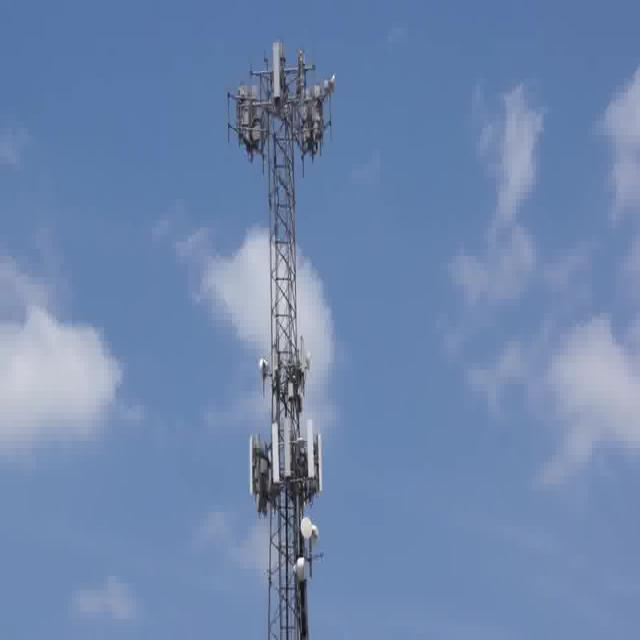GSM Antenna: (265, 420, 281, 488), (281, 409, 296, 479), (304, 419, 319, 486), (270, 39, 284, 104), (244, 431, 257, 497)
Microwave Antenna: (300, 513, 314, 543), (292, 555, 306, 582), (310, 516, 322, 547), (324, 72, 337, 100), (305, 347, 314, 374), (258, 354, 268, 378)
